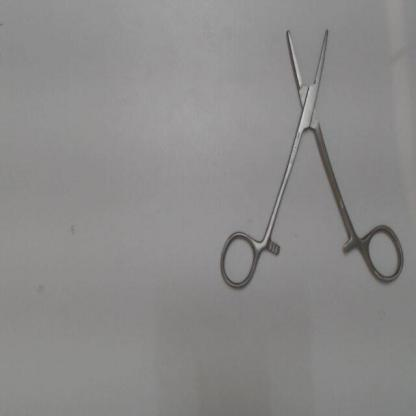Mayo Needle Holder: (211, 11, 408, 299)
